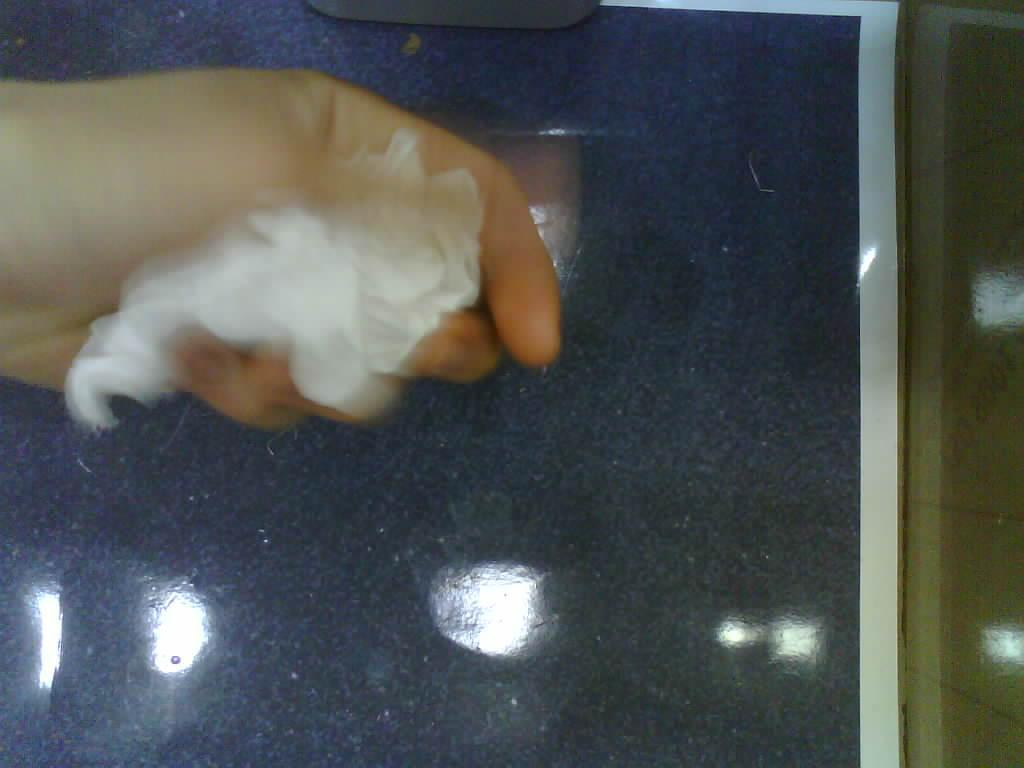paper: (67, 127, 483, 428)
